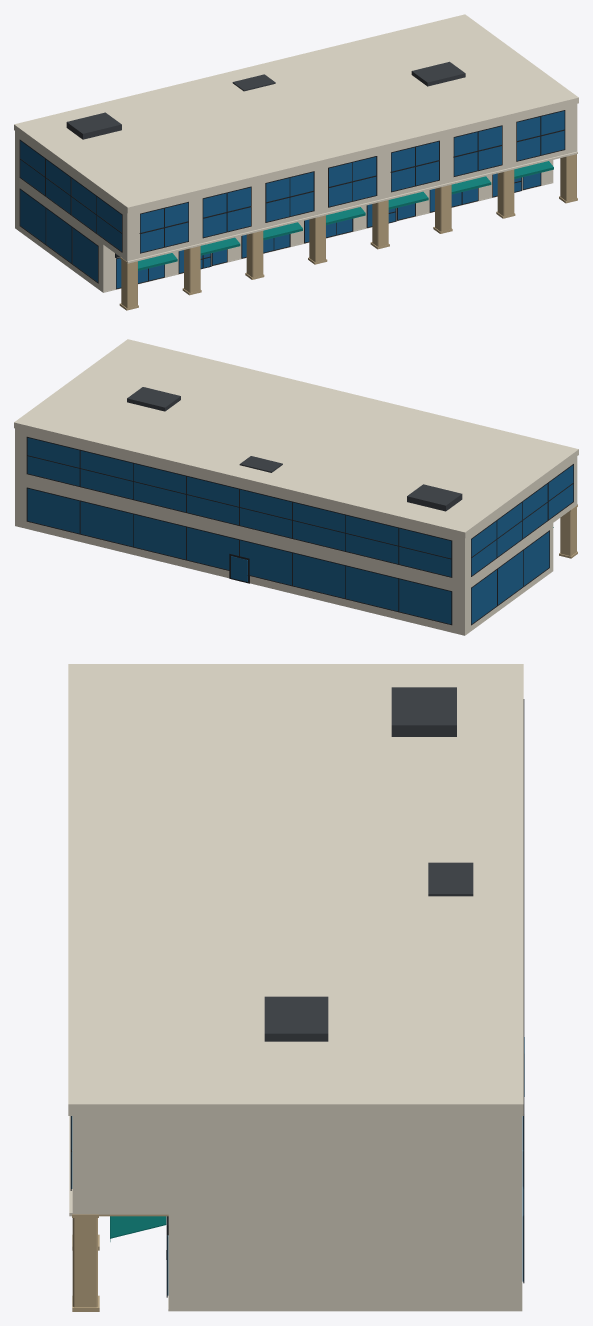
Rendered from montgomery-colonnade.glb.
The picture shows the model from 3 angles, top to bottom: view 1: azimuth 30°, elevation 25°; view 2: azimuth 150°, elevation 25°; view 3: azimuth 270°, elevation 25°; orthographic projection. The views are drawn at different scales.
Visible parts, largest first — view 1: Walls, Glass, Columns, Trim, Awnings, Roof; view 2: Walls, Glass, Trim, Roof, Columns; view 3: Walls, Roof, Columns, Trim, Awnings.
Part boxes in pixels (x1,y1,x2,y2): Walls: (14,14,578,292); Glass: (20,111,564,288); Columns: (119,154,577,310); Trim: (19,110,565,289); Awnings: (138,161,553,270); Roof: (66,61,465,139); Walls: (14,339,578,635); Glass: (27,438,573,623); Trim: (26,436,573,625); Roof: (127,387,462,511); Columns: (559,505,577,558); Walls: (68,664,523,1311); Roof: (264,687,473,1041); Columns: (72,1214,168,1311); Trim: (70,699,524,1297); Awnings: (110,1216,166,1241).
Size of the model in its own units: 51.05 by 11.83 by 22.34.
